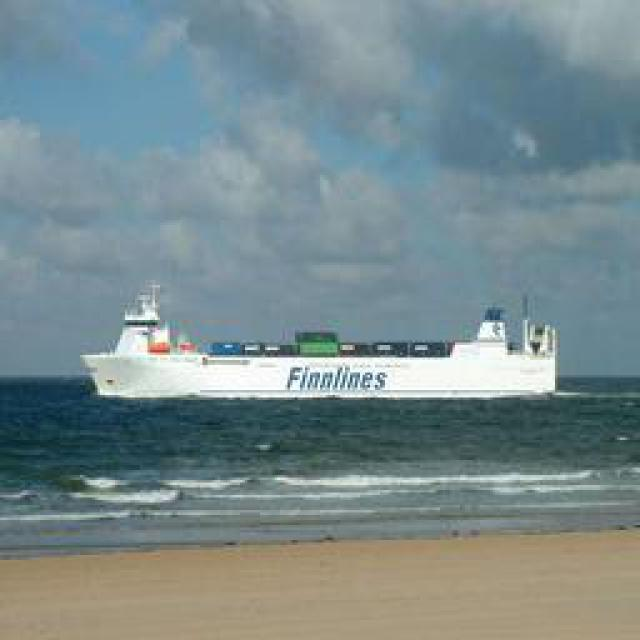Ship: (93, 286, 551, 404)
